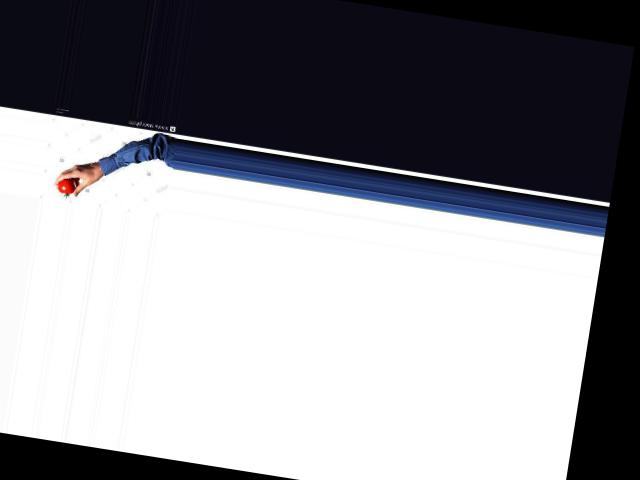tomato: (56, 177, 75, 194)
